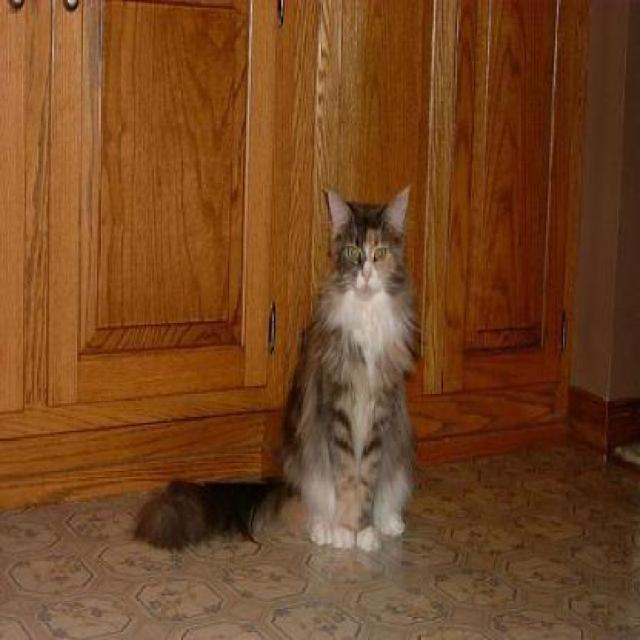cat: (137, 186, 414, 546)
